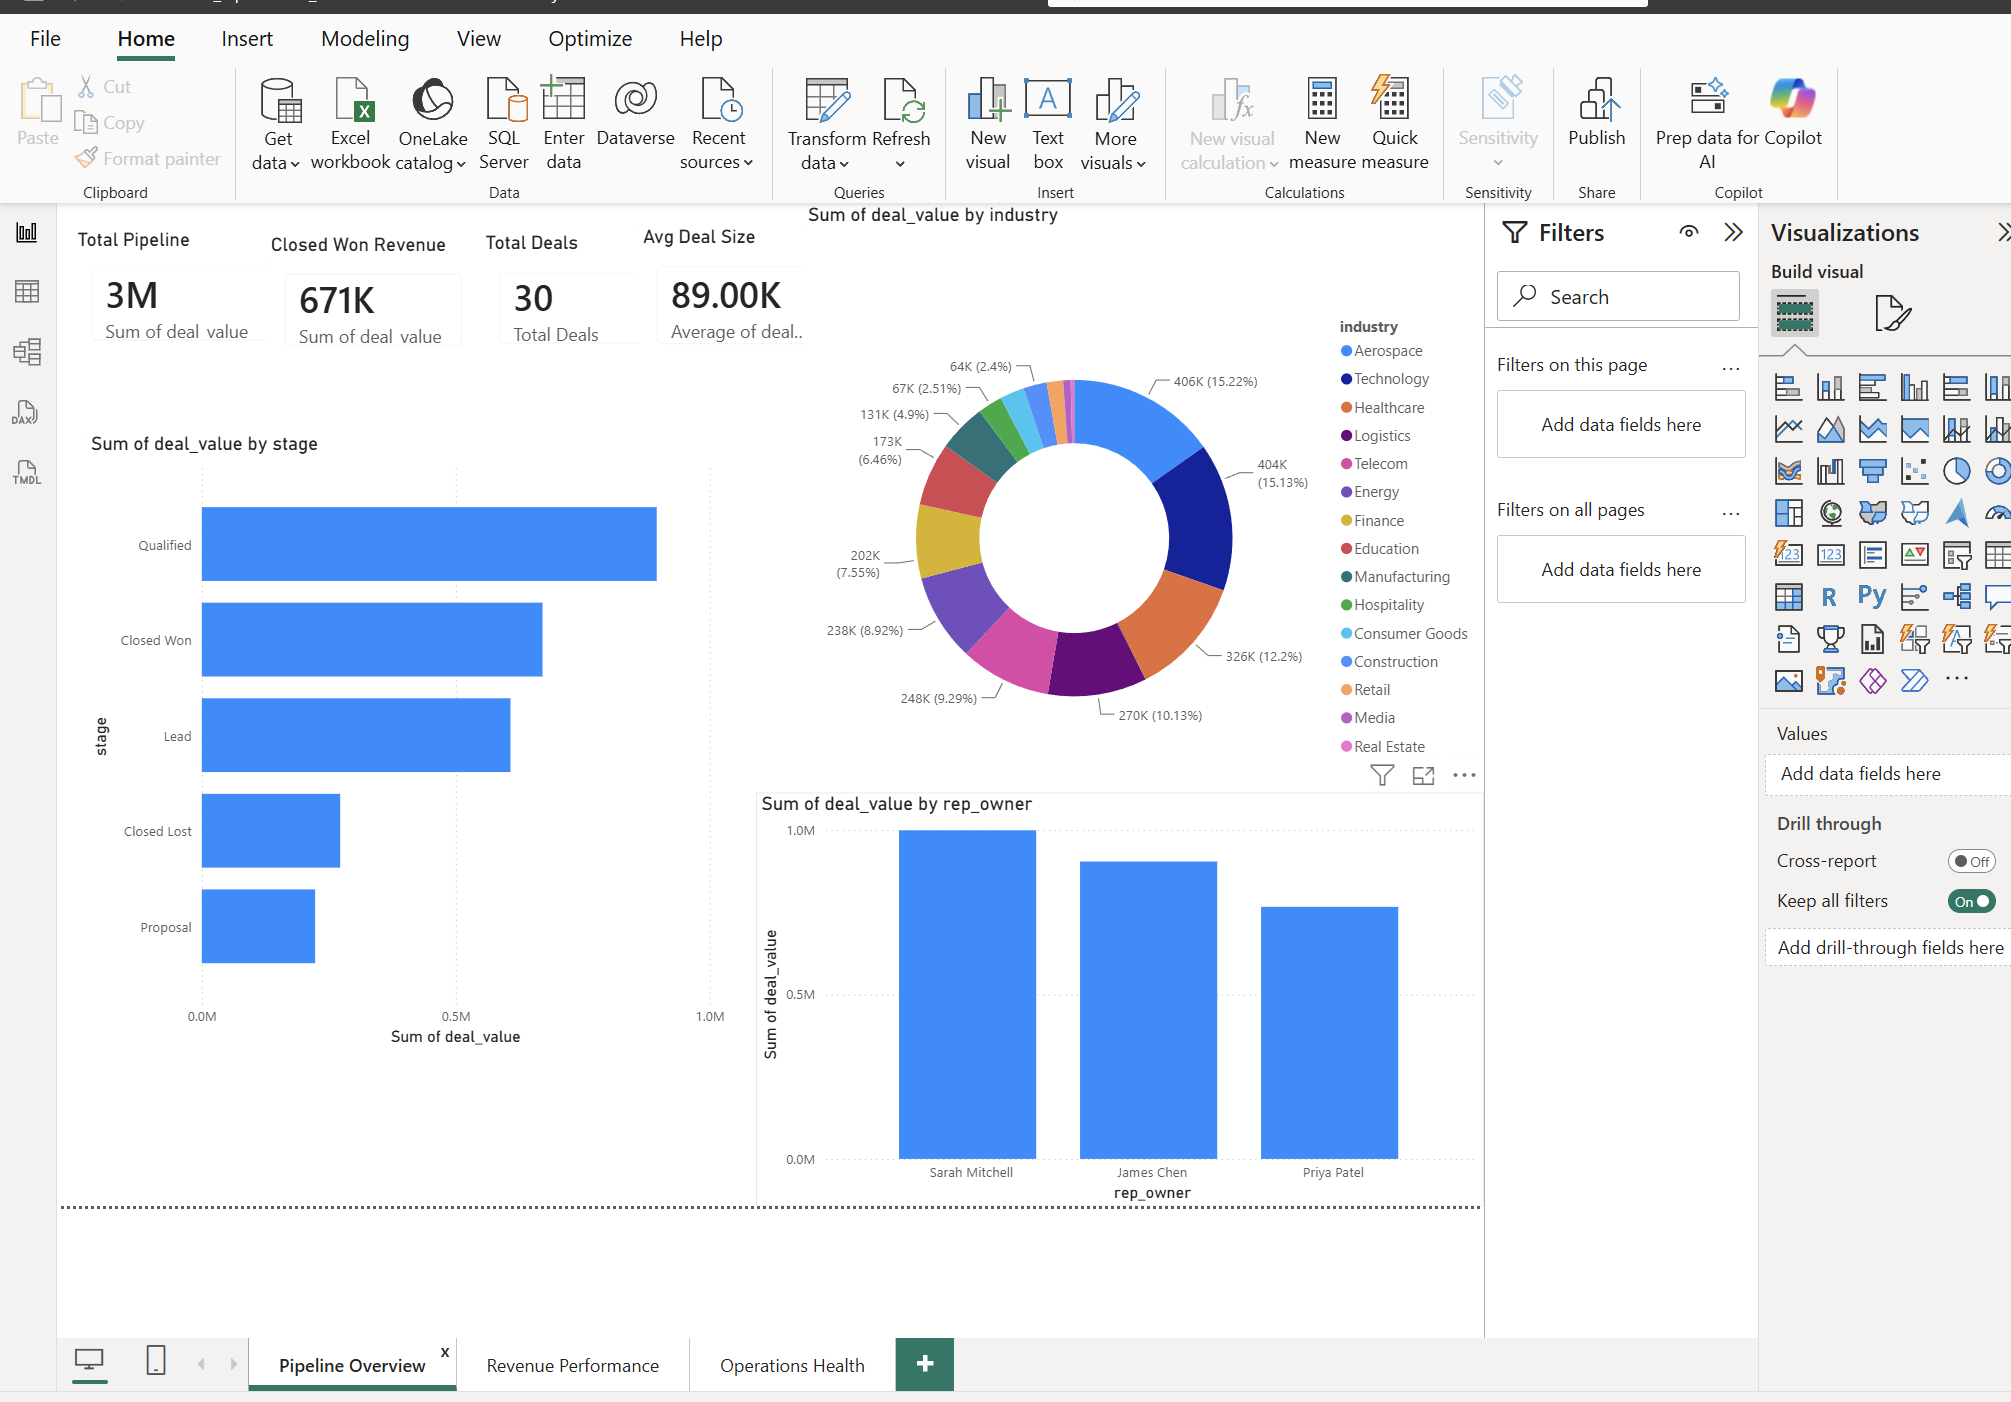

The dashboard page shown, as its layout file describes it:
{"tool":"powerbi","page":{"name":"Pipeline Overview","canvas":[1280,900],"ordinal":0},"visuals":[{"type":"cardVisual","title":"Total Pipeline","fields":{"Data":["Sum(powerbi_dataset.deal_value)"]},"box":[13.7,23.3,204.3,117.9],"z":0},{"type":"cardVisual","title":"Closed Won Revenue","fields":{"Data":["Sum(powerbi_dataset.deal_value)"]},"box":[186.5,27.4,193.4,119.3],"z":1000},{"type":"cardVisual","title":"Total Deals","fields":{"Data":["powerbi_dataset.Total Deals"]},"box":[379.9,26.1,182.4,117.9],"z":2000},{"type":"cardVisual","title":"Avg Deal Size","fields":{"Data":["Avg(powerbi_dataset.deal_value)"]},"box":[521.1,20.6,183.8,123.4],"z":3000},{"type":"clusteredBarChart","fields":{"Category":["powerbi_dataset.stage"],"Y":["Sum(powerbi_dataset.deal_value)"]},"box":[25.6,205.9,578.6,554.3],"z":4000},{"type":"donutChart","fields":{"Y":["Sum(powerbi_dataset.deal_value)"],"Category":["powerbi_dataset.industry"]},"box":[668.7,0,610.9,581.3],"z":5000},{"type":"clusteredColumnChart","fields":{"Y":["Sum(powerbi_dataset.deal_value)"],"Category":["powerbi_dataset.rep_owner"]},"box":[627,528.8,652.6,371.4],"z":6000}]}

Visuals, with their boxes on the page's 1280x900 design canvas (x1, y1, x2, y2). These are canvas units, not pixel positions in the 2011x1402 screenshot, which may show the page scaled, cropped or inside an application window:
"Total Pipeline" cardVisual: crop(14, 23, 218, 141)
"Closed Won Revenue" cardVisual: crop(186, 27, 380, 147)
"Total Deals" cardVisual: crop(380, 26, 562, 144)
"Avg Deal Size" cardVisual: crop(521, 21, 705, 144)
clusteredBarChart - powerbi_dataset.stage x Sum(powerbi_dataset.deal_value): crop(26, 206, 604, 760)
donutChart - Sum(powerbi_dataset.deal_value) x powerbi_dataset.industry: crop(669, 0, 1280, 581)
clusteredColumnChart - Sum(powerbi_dataset.deal_value) x powerbi_dataset.rep_owner: crop(627, 529, 1280, 900)
